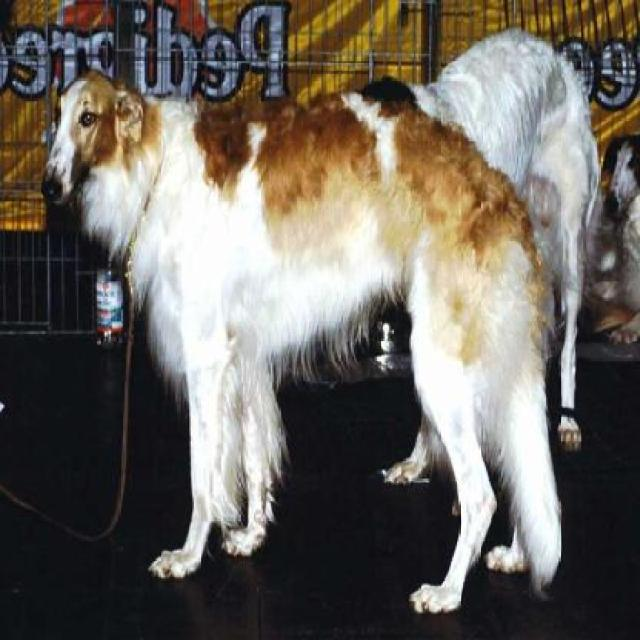animals: (33, 56, 592, 618)
